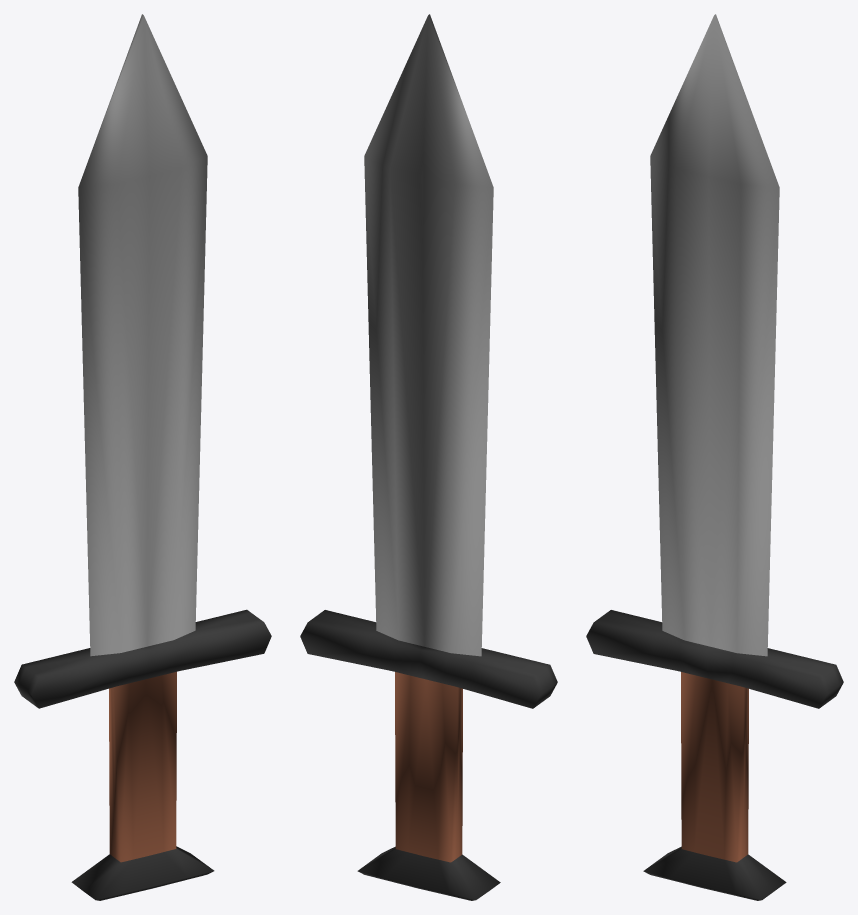
The model's file is SteelDagger.fbx.
3 renders of one model, left to right at view 1: azimuth 30°, elevation 25°; view 2: azimuth 150°, elevation 25°; view 3: azimuth 330°, elevation 25°, orthographic.
Parts seen in each view (by area): view 1: IronDagger01_LOD0; view 2: IronDagger01_LOD0; view 3: IronDagger01_LOD0.
Boxes of the visible parts, x1,y1,x2,y2 form: IronDagger01_LOD0: [14, 14, 271, 900]; IronDagger01_LOD0: [300, 14, 557, 900]; IronDagger01_LOD0: [586, 14, 843, 900].
Bounding box in the file's own units: 16 × 55.06 × 2.8.
